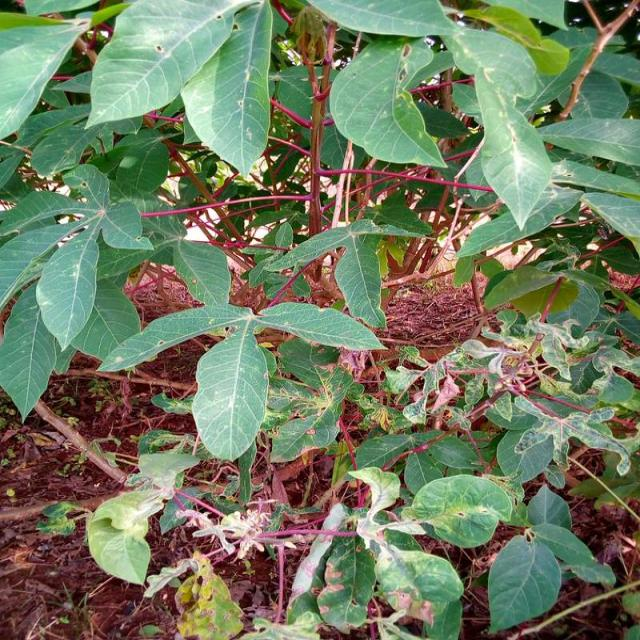cassava leaf: (84, 0, 248, 131), (179, 0, 273, 177), (328, 35, 450, 171), (190, 322, 269, 462)
